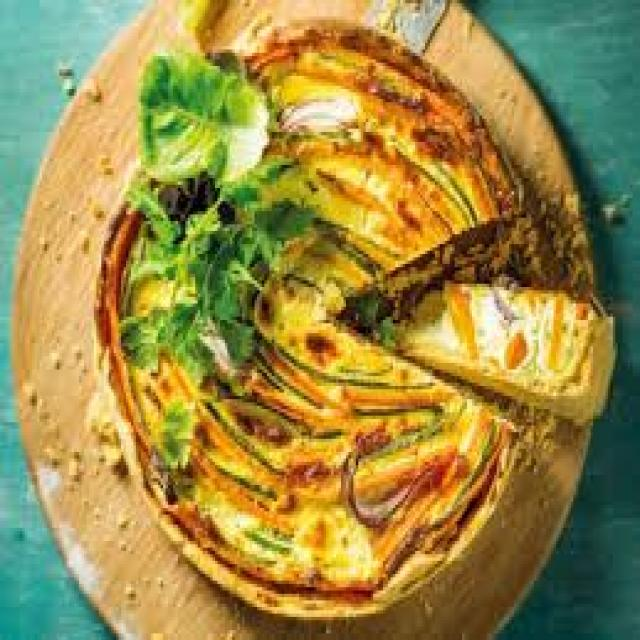organic waste: (91, 17, 526, 610), (393, 274, 613, 422), (138, 50, 270, 182), (541, 178, 598, 297), (116, 297, 200, 369), (250, 195, 318, 277), (215, 152, 301, 214), (190, 300, 262, 373), (126, 175, 188, 254), (158, 168, 227, 231), (151, 392, 195, 468), (121, 254, 185, 300), (180, 336, 230, 389), (183, 0, 230, 49), (212, 201, 245, 231)
